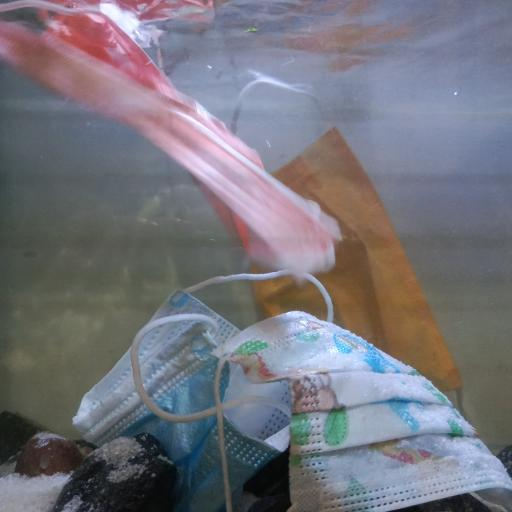mask: (3, 0, 347, 285), (213, 311, 512, 512), (244, 124, 461, 397)
